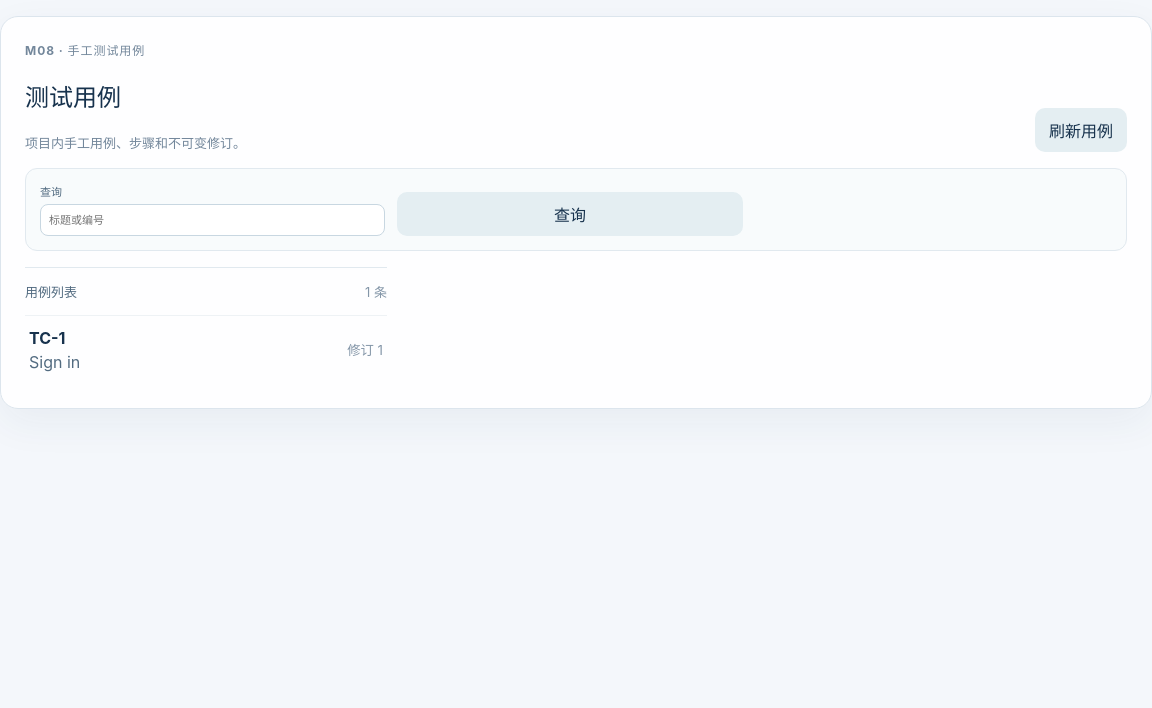
Test: TestCasesPanel › does not expose create or edit controls to a viewer
Expected: the text "TC-1" is shown, [29,328,65,348]
Step 1. Click the button "TC-1 Sign in 修订 1" → coordinates (47, 338), box [25,315,387,384]
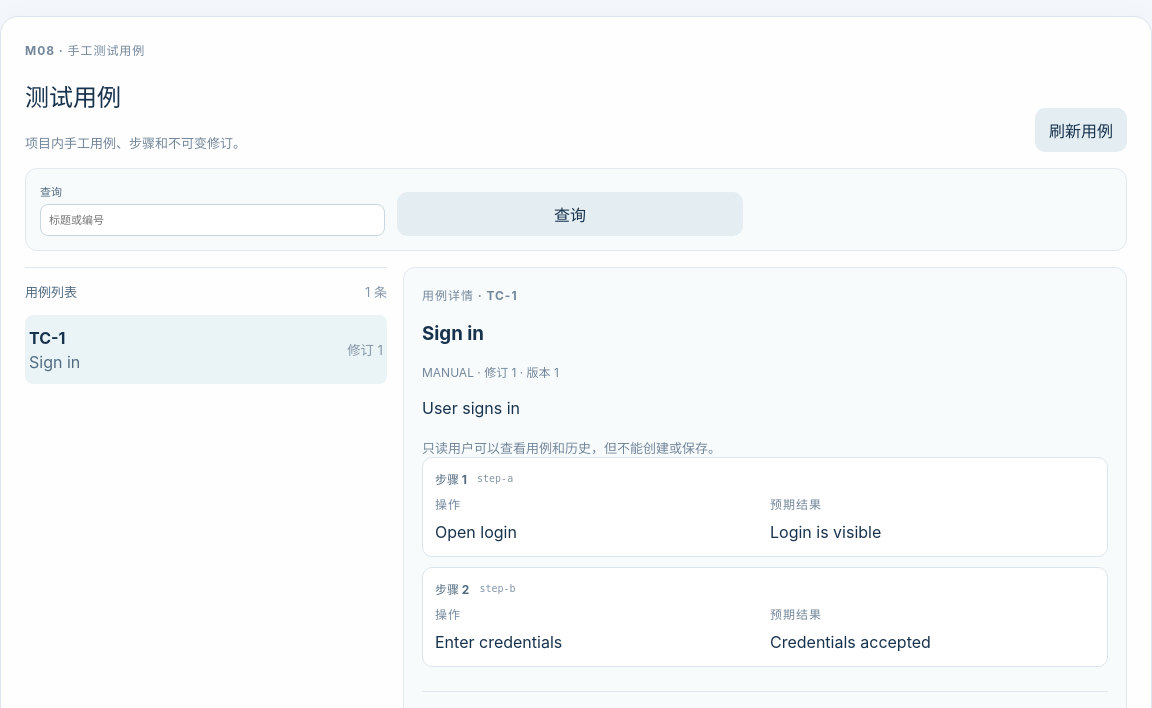
Expected: the text "只读用户可以查看用例和历史，但不能创建或保存。" is shown, [422,440,721,456]
